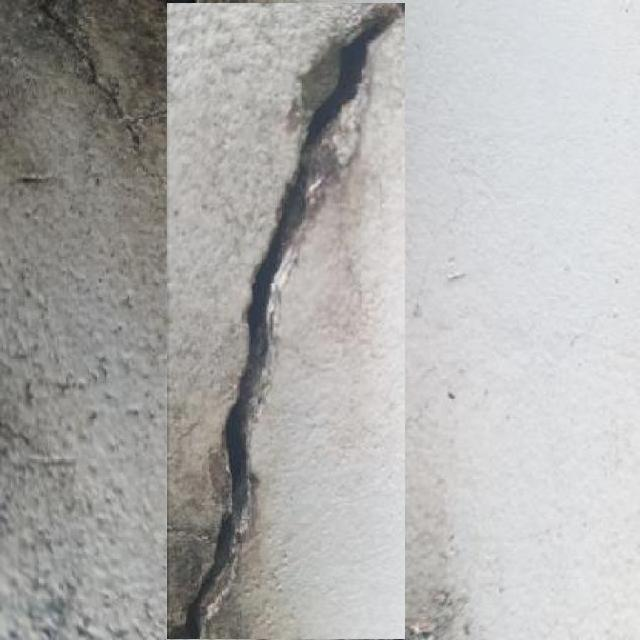Crack: (171, 2, 402, 638)
